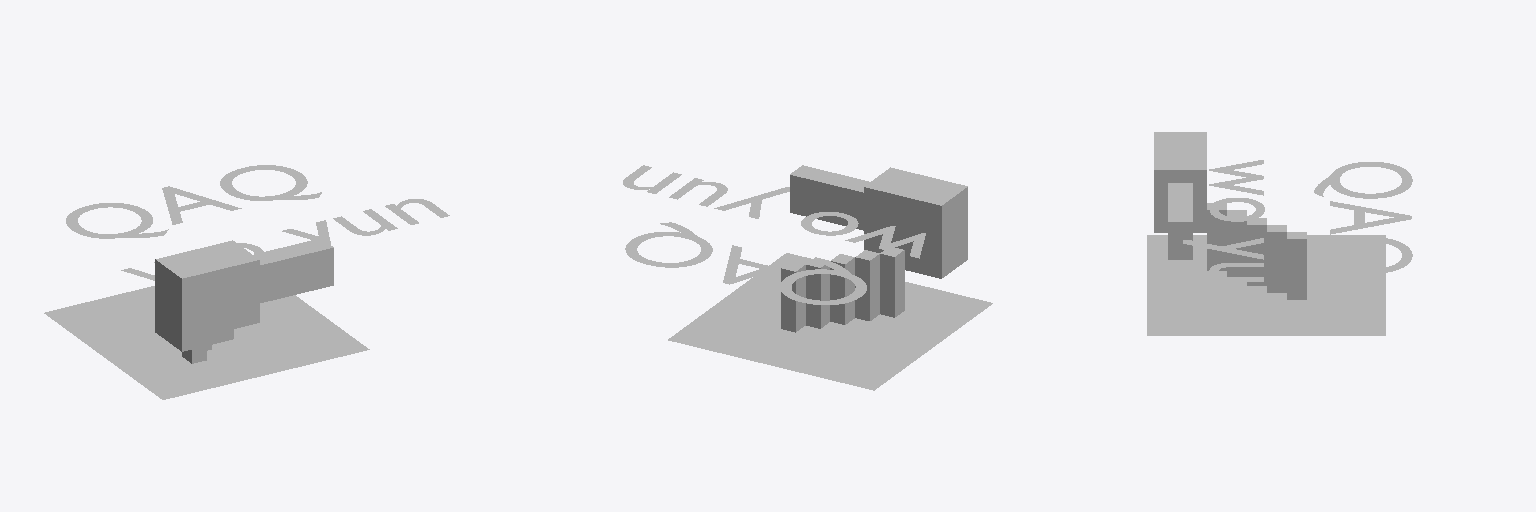
The model's file is QAQ.obj.
3 renders of one model, left to right at view 1: azimuth 30°, elevation 25°; view 2: azimuth 150°, elevation 25°; view 3: azimuth 270°, elevation 25°, orthographic.
Visible parts, largest first — view 1: Plane; view 2: Plane; view 3: Plane.
Boxes of the visible parts, <box> form: Plane: <box>44,165,449,399</box>; Plane: <box>623,165,992,390</box>; Plane: <box>1147,132,1412,335</box>.
Size of the model in its own units: 3.08 by 1.05 by 2.22.